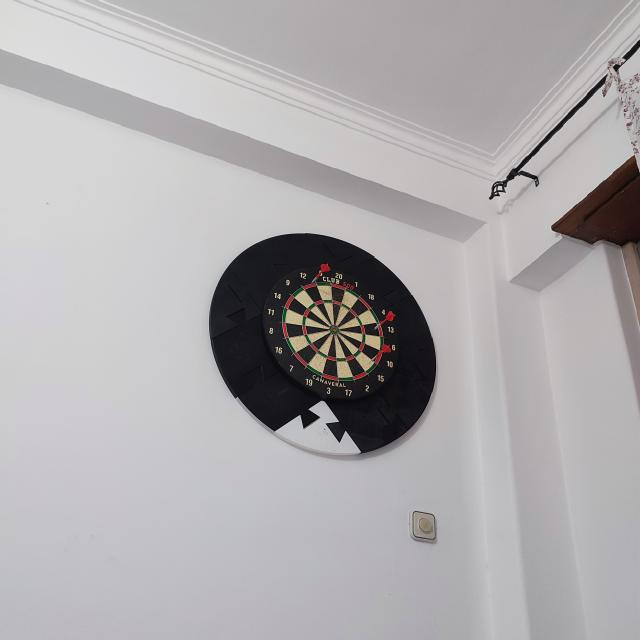dart: (372, 311, 396, 331), (372, 311, 395, 331), (310, 263, 330, 285), (369, 344, 391, 364), (310, 264, 330, 286), (369, 344, 391, 363)
